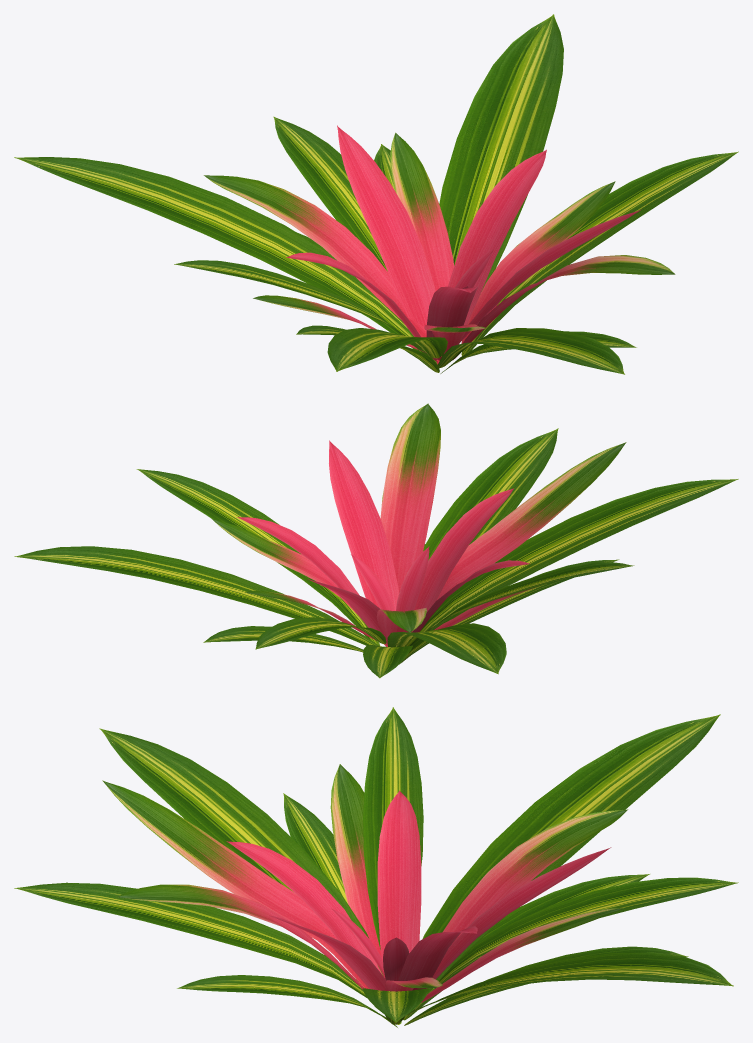
File: Bromeliad.fbx
3 views of the same model, one above another, from view 1: azimuth 30°, elevation 25°; view 2: azimuth 150°, elevation 25°; view 3: azimuth 270°, elevation 25° (orthographic). The views are drawn at different scales.
Parts seen in each view (by area): view 1: bromeliad; view 2: bromeliad; view 3: bromeliad.
Part boxes in pixels (x1=…): bromeliad: x1=14, y1=14, x2=738, y2=374; bromeliad: x1=14, y1=403, x2=738, y2=678; bromeliad: x1=14, y1=707, x2=738, y2=1027.
Bounding box in the file's own units: 24.1 × 7.27 × 25.56.
Materials: 3 (3 with a texture image).
